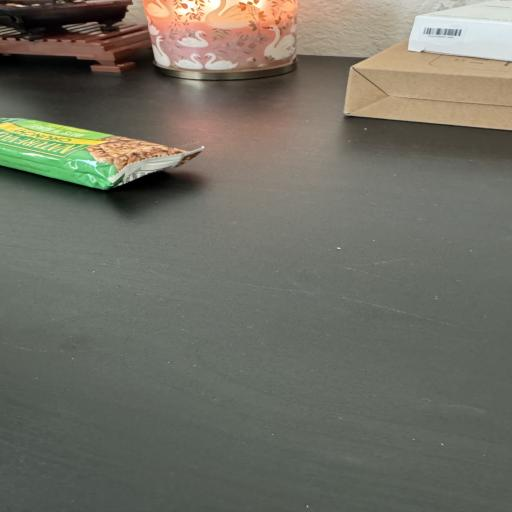granola: (0, 118, 202, 189)
